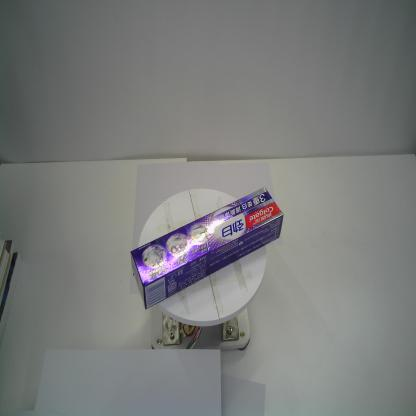Personal Hygiene: (130, 186, 284, 311)
